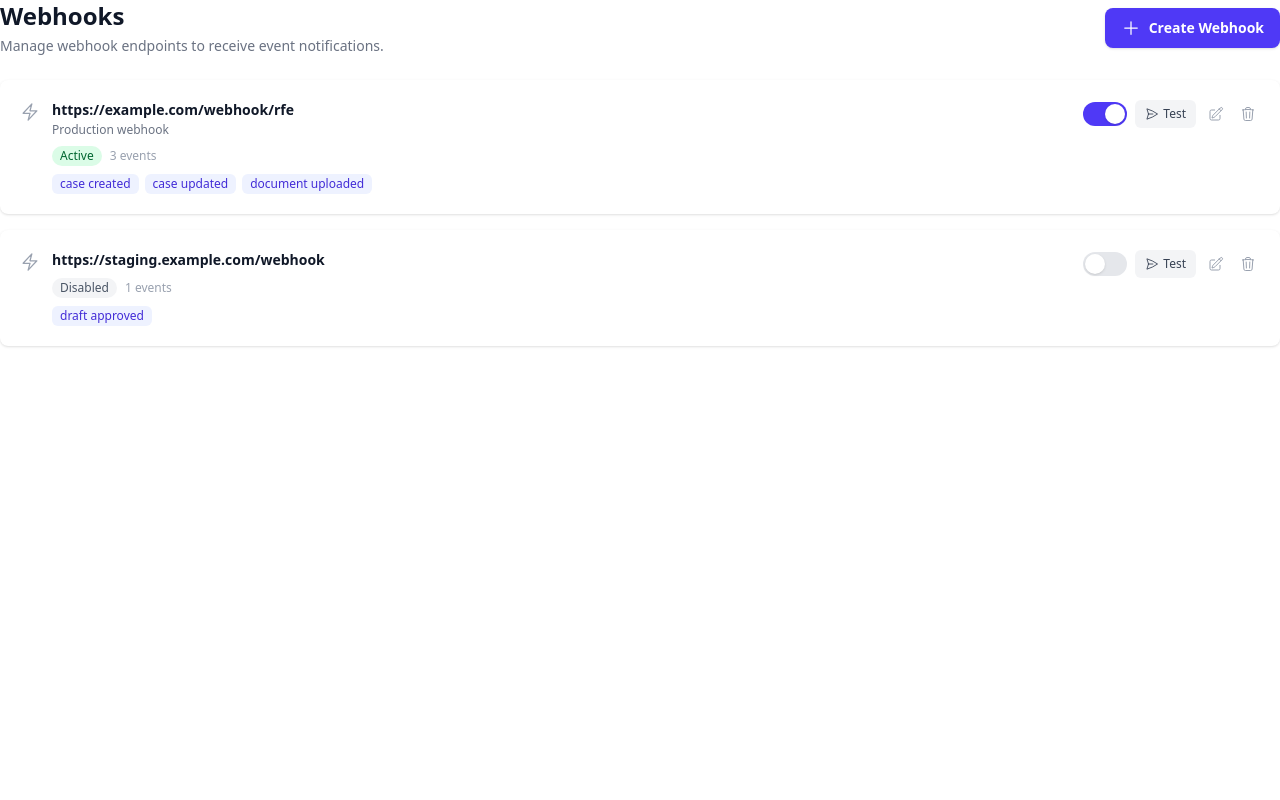
it: WebhooksView › opens create modal on button click
Click the button "Create Webhook": point(1192, 28) top-left (1105, 8), bottom-right (1279, 48)
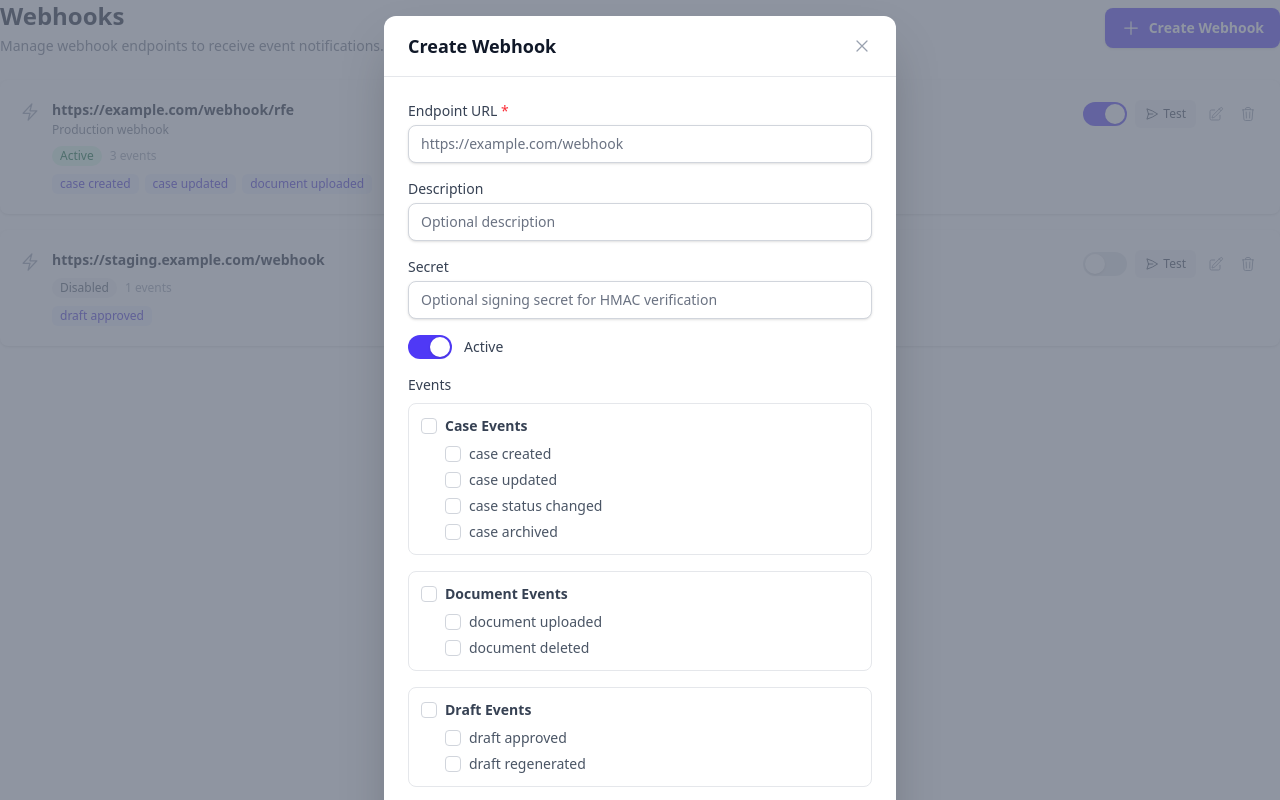
Expected: the field with id "webhook-url" is shown, top-left (408, 125), bottom-right (872, 163)
Expected: the field with id "webhook-description" is shown, top-left (408, 203), bottom-right (872, 241)
Expected: the password field with id "webhook-secret" is shown, top-left (408, 281), bottom-right (872, 319)
